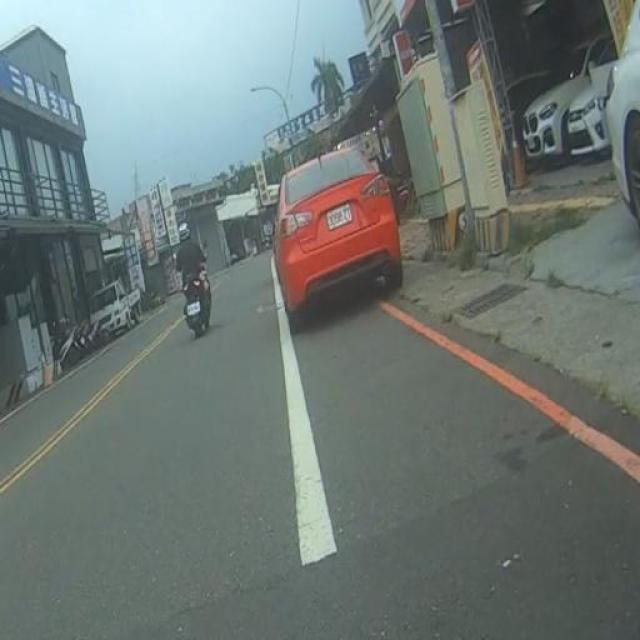illegalparking: (250, 118, 432, 327), (520, 38, 617, 164), (604, 2, 640, 226), (86, 282, 142, 341)
